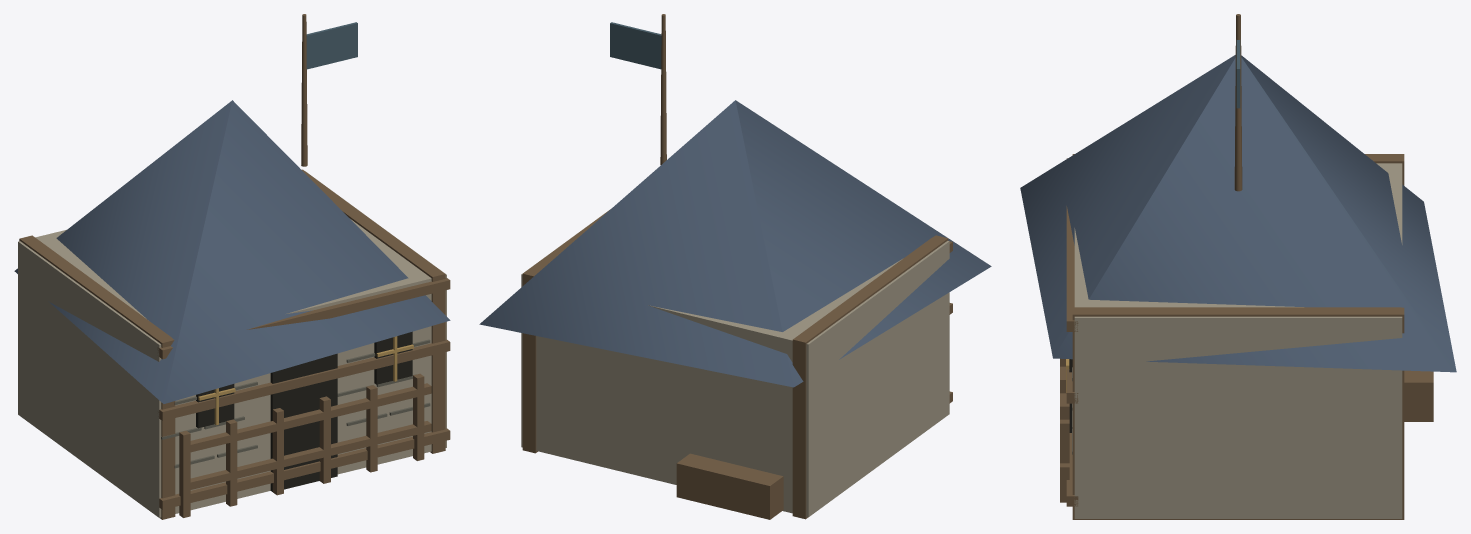
Rendered from b-camel-french.glb.
3 views of the same model, side by side, from view 1: azimuth 30°, elevation 25°; view 2: azimuth 150°, elevation 25°; view 3: azimuth 270°, elevation 25° (orthographic). The views are drawn at different scales.
Parts seen in each view (by area): view 1: Structure; view 2: Structure; view 3: Structure.
Boxes of the visible parts, x1,y1,x2,y2 form: Structure: (14,14,450,519); Structure: (479,14,991,519); Structure: (1020,14,1456,519).
Size of the model in its own units: 4.53 by 5.33 by 4.53.
